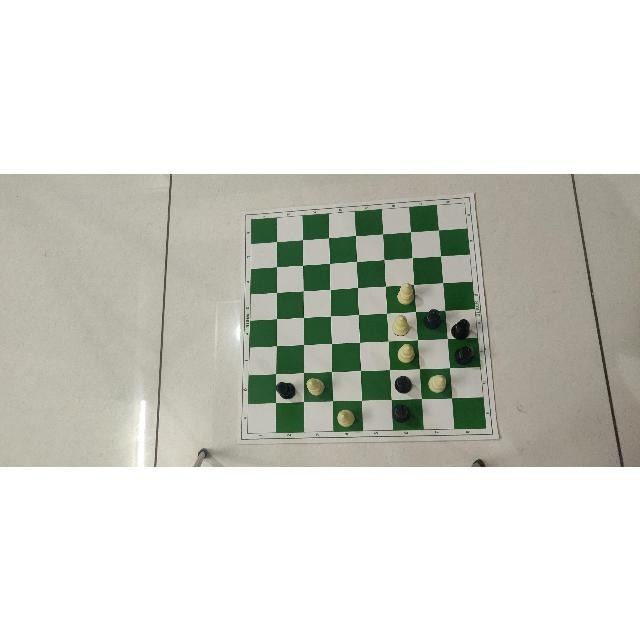black-bishop: (451, 316, 471, 339), (455, 344, 475, 366), (393, 373, 414, 393), (424, 306, 442, 329), (276, 380, 298, 398), (392, 402, 410, 422)
white-bishop: (396, 340, 416, 364), (304, 377, 326, 397), (395, 282, 414, 305), (427, 372, 446, 394), (392, 313, 410, 336), (337, 408, 355, 426)
